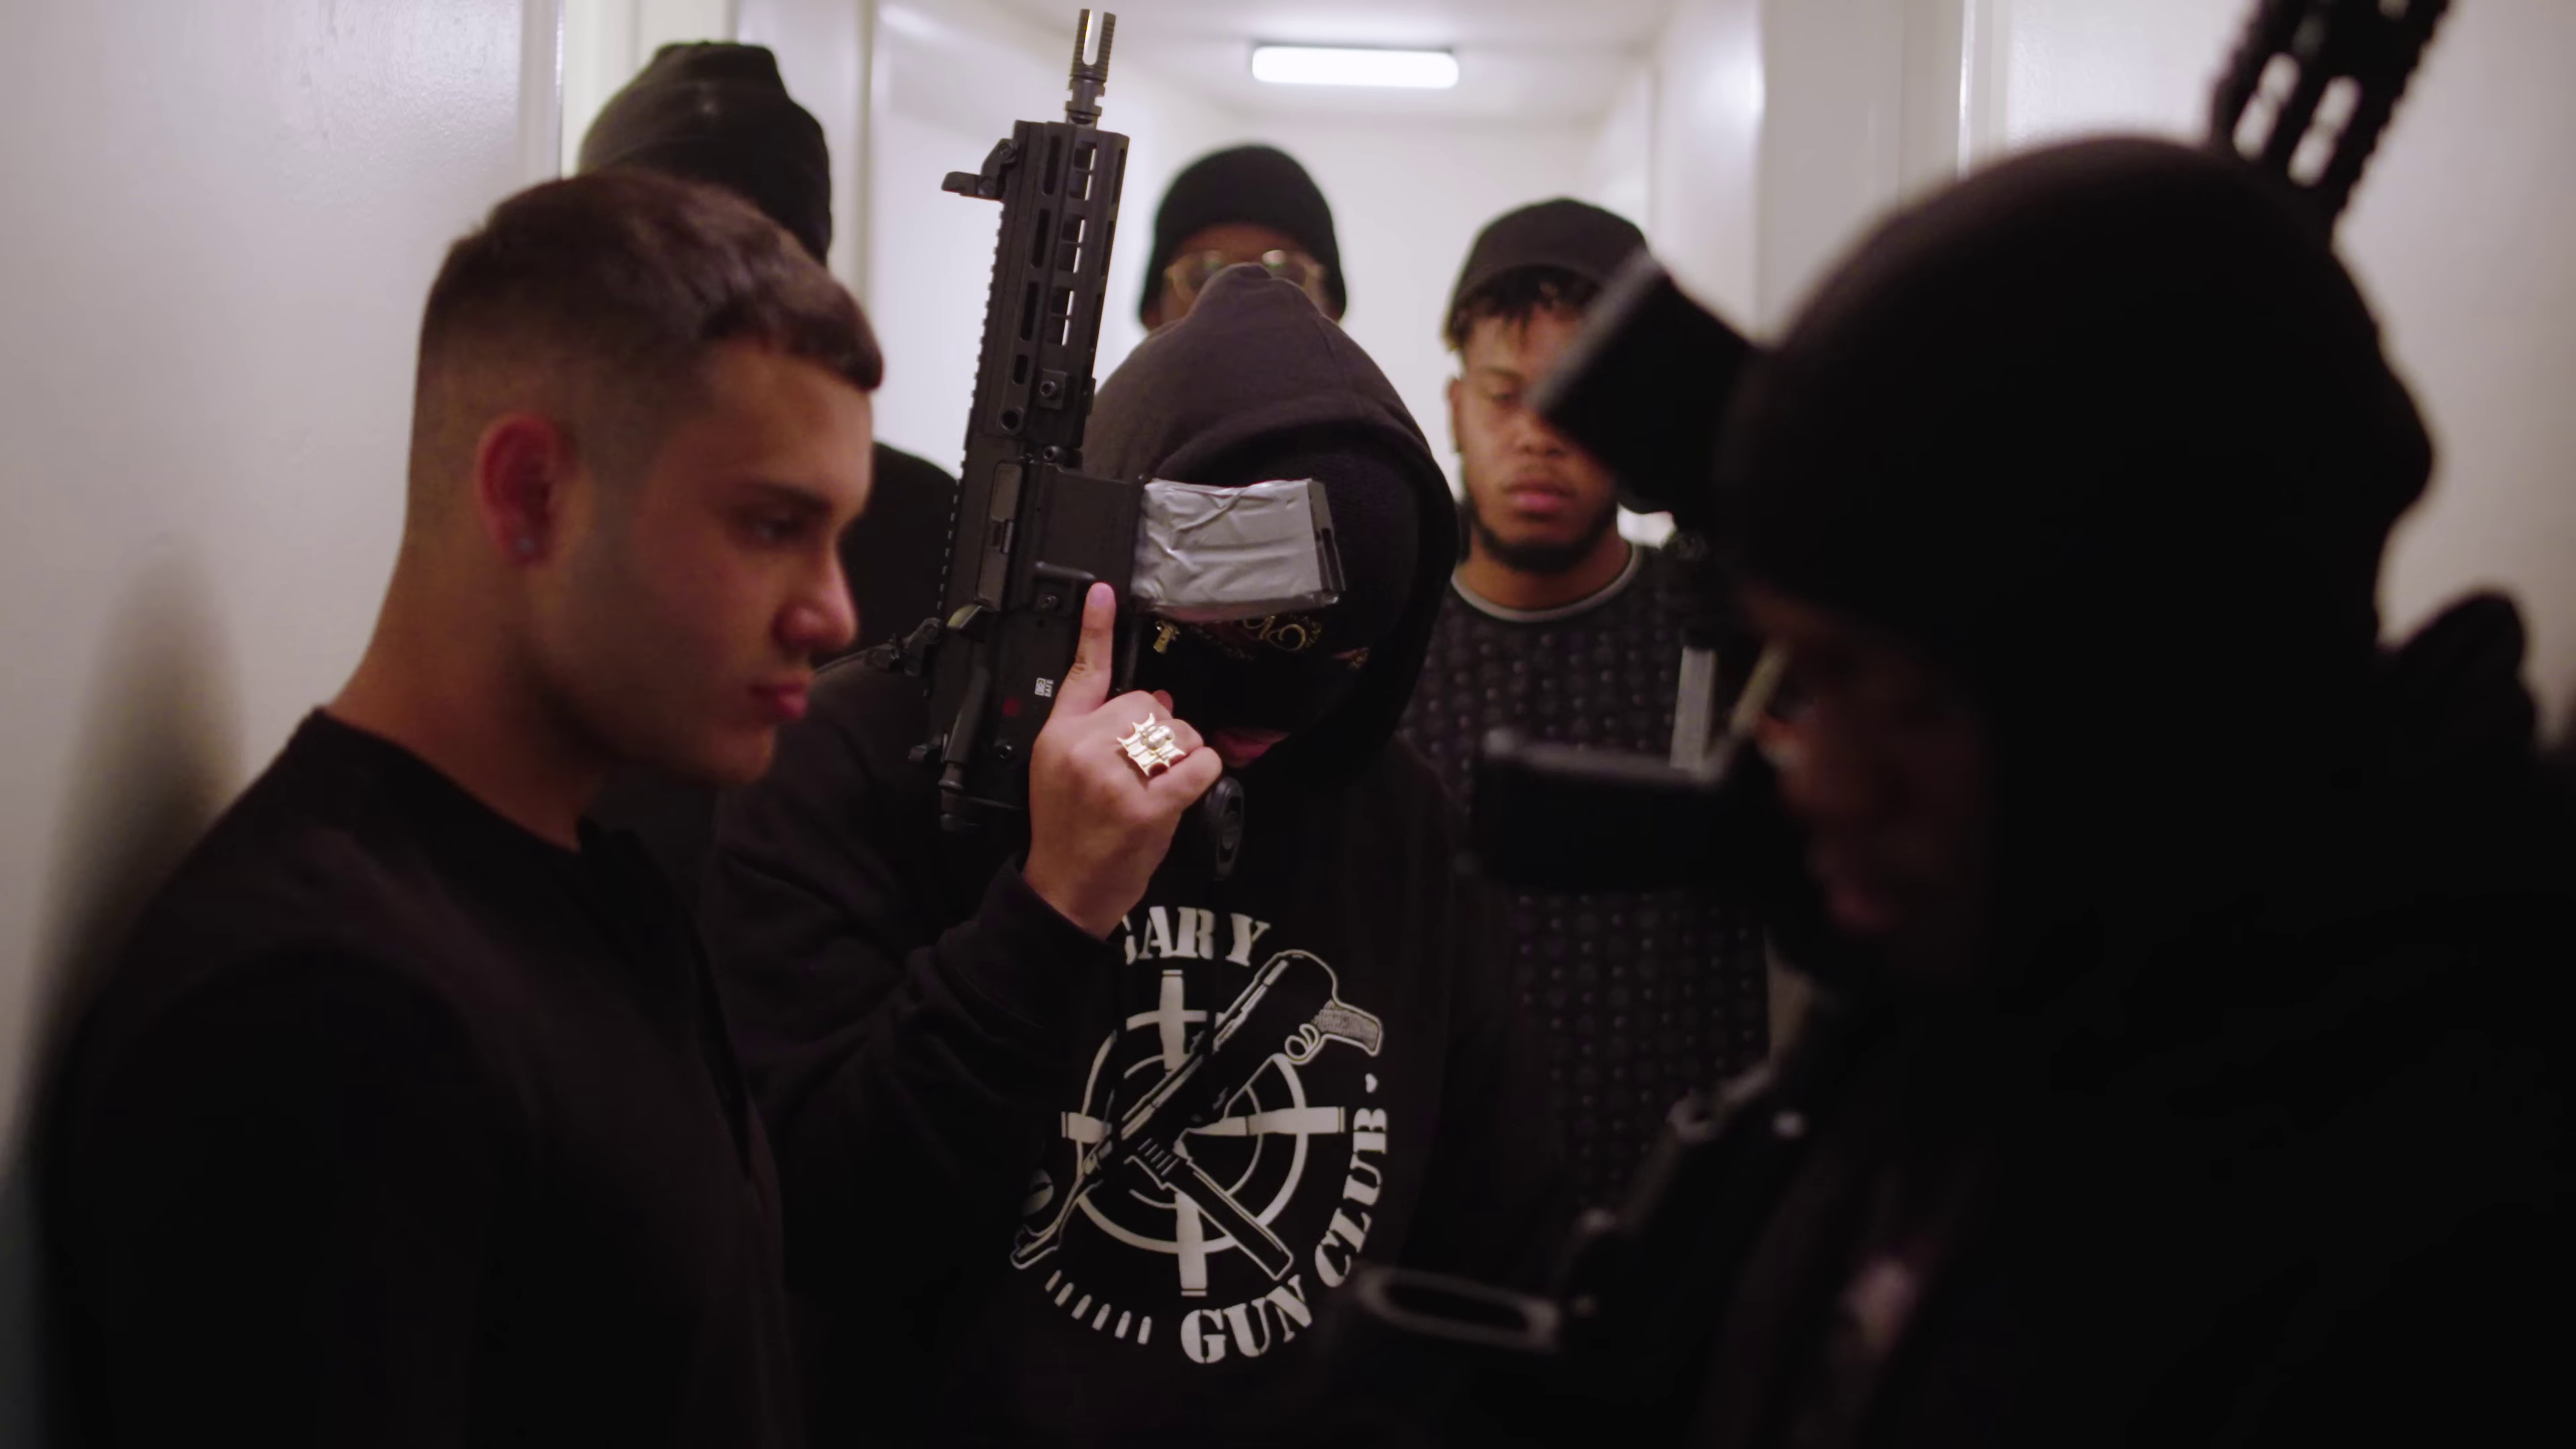gun: (1408, 0, 2456, 1449), (876, 0, 1371, 915)
p_w_gun: (1422, 0, 2576, 1449), (685, 0, 1483, 1449)
p_wo_gun_not_carrying_normal_pose: (7, 157, 895, 1449), (1339, 188, 1821, 1215)
